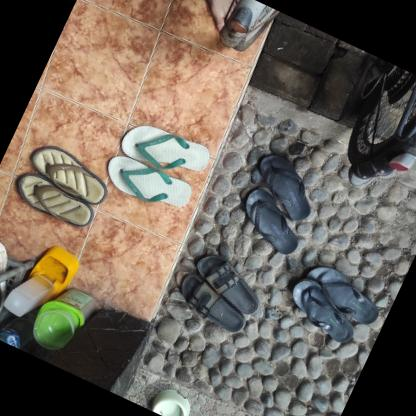Black Slide A: (181, 245, 272, 321), (168, 270, 256, 339)
Black Slide B: (277, 273, 368, 349), (296, 259, 388, 332)
Black Swallow A: (240, 146, 329, 228), (230, 181, 314, 258)
Brown Flip Flop: (22, 137, 116, 210), (6, 166, 99, 235)
Green Swallow: (114, 112, 212, 188), (96, 148, 196, 219)
